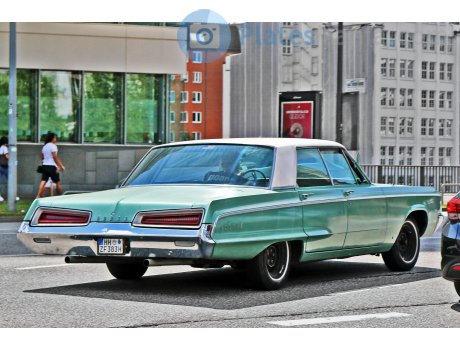License Plates: (97, 240, 123, 249)
